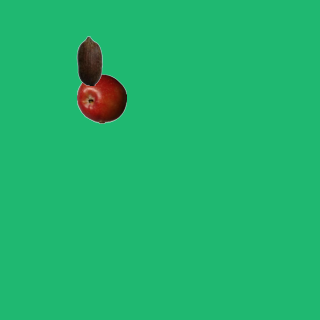Apple Braeburn: (76, 73, 126, 123)
Nut Pecan: (64, 35, 114, 85)
